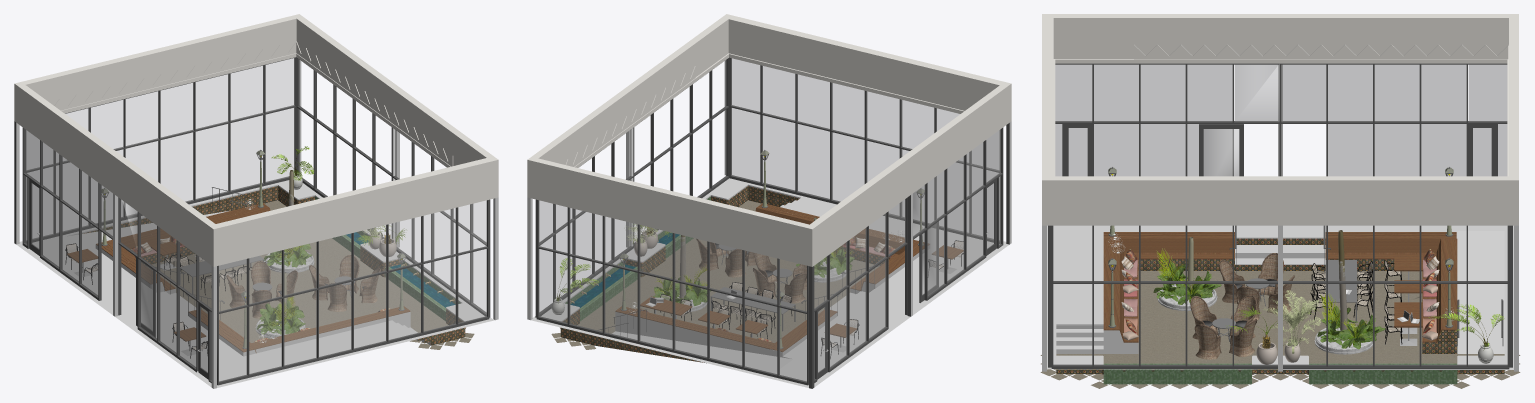
File: dedicated_dining_02.glb
The picture shows the model from 3 angles, left to right: view 1: azimuth 30°, elevation 25°; view 2: azimuth 150°, elevation 25°; view 3: azimuth 270°, elevation 25°; orthographic projection. The views are drawn at different scales.
Visible parts, largest first — view 1: side, Mesh16781 Group_771_1 Model, Mesh16780 Group_772_1 Model, outdoor_up_part, window, outdoor_down_floor, windows_frames, Mesh6431 Group3279 Group3278 Model, sides_triangles, Mesh5888 Group3249 Model, Mesh4100 Group3154 Model, outside_door (+6 smaller); view 2: side, Mesh16780 Group_772_1 Model, Mesh16781 Group_771_1 Model, outdoor_up_part, window, outdoor_down_floor, windows_frames, Mesh4232 Group3171 Model, Mesh4773 Group3226 Model, outside_door, sides_triangles, Mesh4100 Group3154 Model (+5 smaller); view 3: side, window, outdoor_up_part, outdoor_down_floor, windows_frames, sides_trianagles, Mesh4101 Group3155 Model, Mesh4089 Group3141 Model, outside_door, Mesh5888 Group3249 Model, Mesh4232 Group3171 Model, Mesh4100 Group3154 Model (+14 smaller).
Boxes of the visible parts, x1,y1,x2,y2 form: side: (14, 14, 498, 266); Mesh16781 Group_771_1 Model: (217, 200, 489, 385); Mesh16780 Group_772_1 Model: (26, 57, 296, 242); outdoor_up_part: (14, 60, 498, 388); window: (22, 127, 211, 382); outdoor_down_floor: (148, 200, 474, 349); windows_frames: (296, 58, 490, 317); Mesh6431 Group3279 Group3278 Model: (54, 41, 296, 110); sides_triangles: (296, 41, 453, 166); Mesh5888 Group3249 Model: (385, 264, 455, 321); Mesh4100 Group3154 Model: (108, 203, 270, 258); outside_door: (136, 257, 155, 337); side: (527, 14, 1011, 266); Mesh16780 Group_772_1 Model: (536, 200, 808, 385); Mesh16781 Group_771_1 Model: (729, 57, 999, 243); outdoor_up_part: (527, 60, 1011, 388); window: (814, 127, 1003, 382); outdoor_down_floor: (551, 200, 879, 349); windows_frames: (535, 58, 729, 317); Mesh4232 Group3171 Model: (755, 203, 917, 258); Mesh4773 Group3226 Model: (570, 264, 640, 321); outside_door: (919, 221, 938, 302); sides_triangles: (565, 66, 695, 166); Mesh4100 Group3154 Model: (615, 306, 776, 349); side: (1042, 14, 1518, 225); window: (1055, 63, 1507, 176); outdoor_up_part: (1042, 64, 1518, 384); outdoor_down_floor: (1040, 271, 1520, 388); windows_frames: (1051, 225, 1509, 369); sides_trianagles: (1134, 44, 1508, 59); Mesh4101 Group3155 Model: (1103, 232, 1234, 259); Mesh4089 Group3141 Model: (1325, 232, 1456, 259); outside_door: (1199, 124, 1243, 176); Mesh5888 Group3249 Model: (1103, 363, 1251, 384); Mesh4232 Group3171 Model: (1103, 238, 1138, 342); Mesh4100 Group3154 Model: (1422, 238, 1457, 342).
Size of the model in its own units: 499 by 299 by 608.
Materials: 242 (216 with a texture image).
